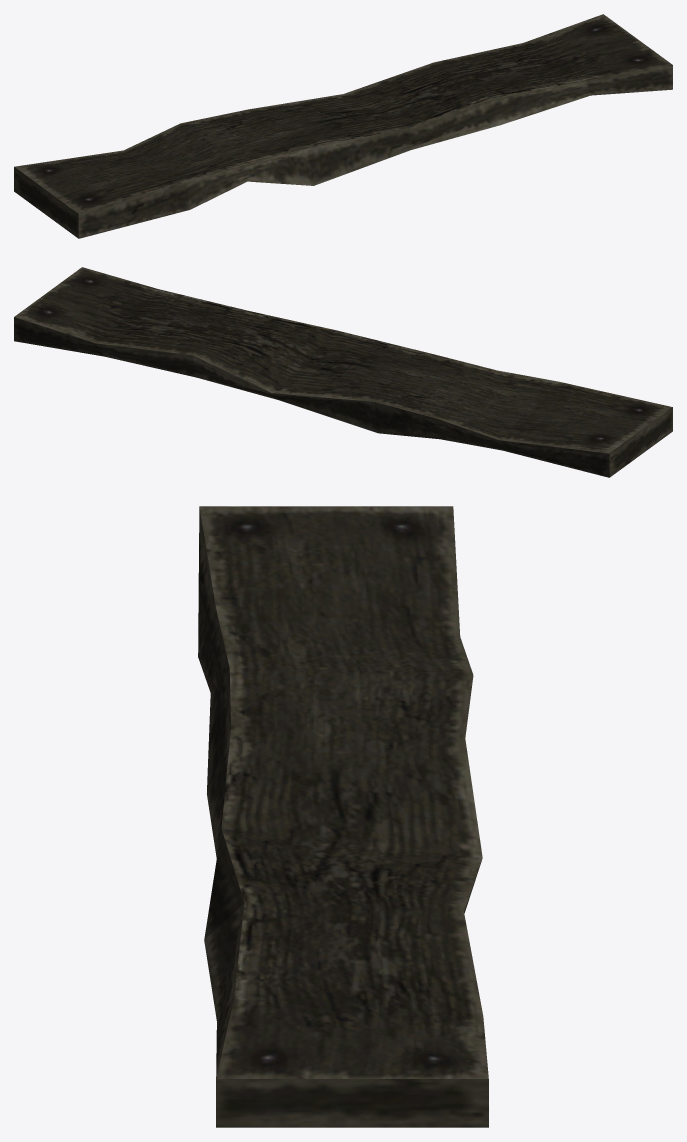
Rendered from plank_2.5m.dae.
3 renders of one model, top to bottom at view 1: azimuth 30°, elevation 25°; view 2: azimuth 150°, elevation 25°; view 3: azimuth 270°, elevation 25°, orthographic. The views are drawn at different scales.
Visible parts, largest first — view 1: polySurface33; view 2: polySurface33; view 3: polySurface33.
Boxes of the visible parts, x1,y1,x2,y2 form: polySurface33: [14, 14, 672, 238]; polySurface33: [14, 267, 672, 477]; polySurface33: [198, 506, 488, 1127].
Size of the model in its own units: 2.48 by 0.1652 by 0.5329.
